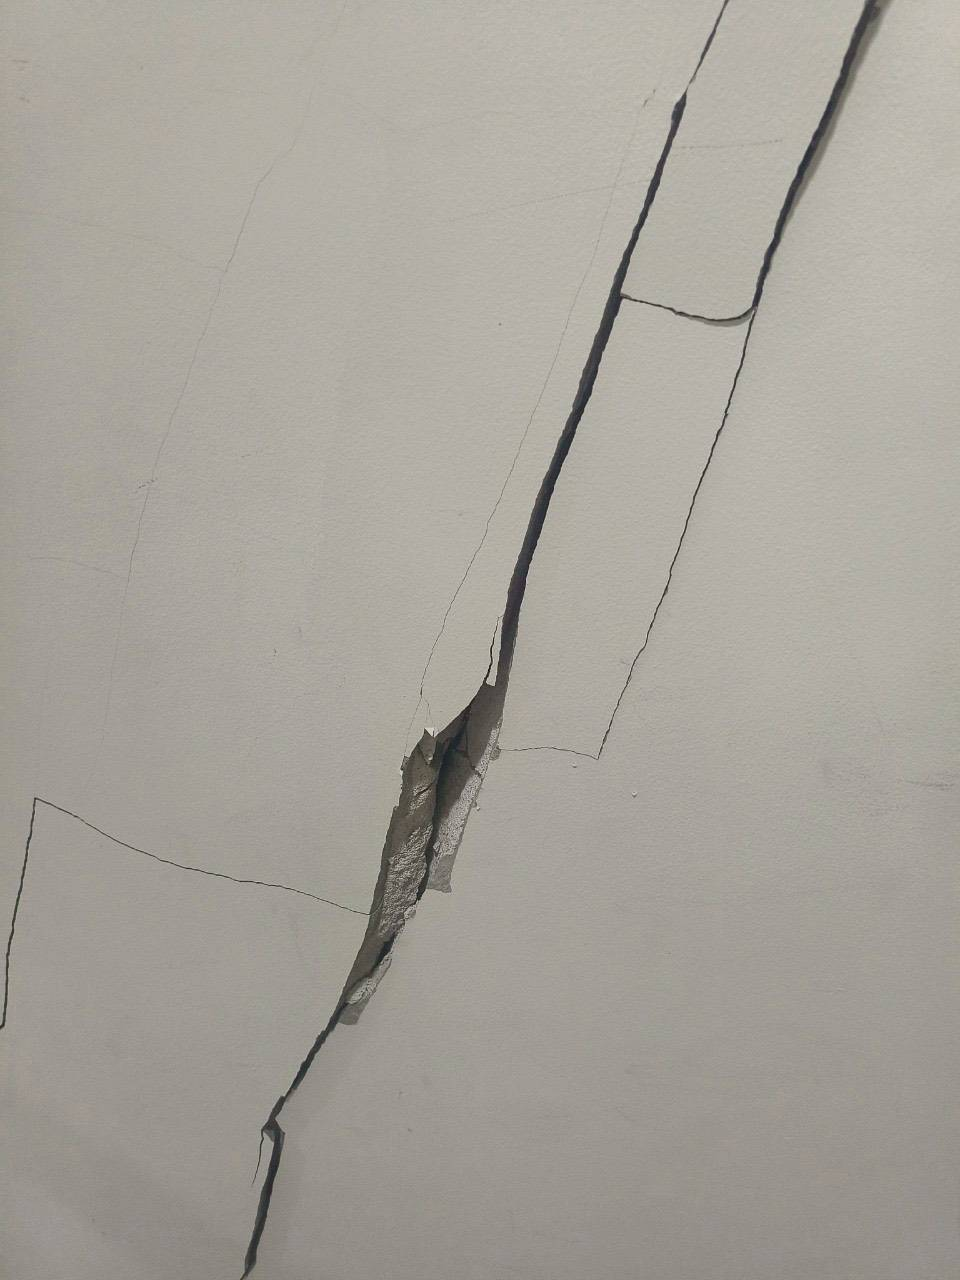Medium: (182, 100, 876, 1194)
